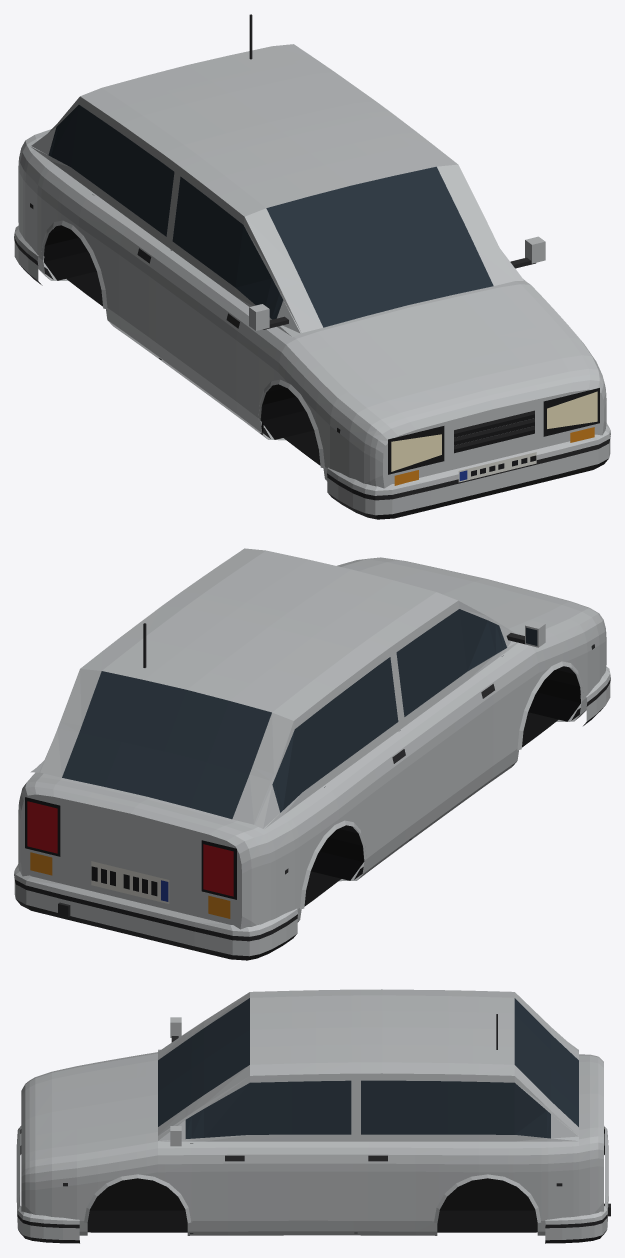
Rendered from seat-leon.glb.
3 renders of one model, top to bottom at view 1: azimuth 30°, elevation 25°; view 2: azimuth 150°, elevation 25°; view 3: azimuth 270°, elevation 25°, orthographic. The views are drawn at different scales.
Visible parts, largest first — view 1: LOD0, door_FR, door_RR; view 2: LOD0, door_FR, door_RR; view 3: LOD0, door_FL, door_RL.
Boxes of the visible parts, <box> form: LOD0: <box>14,14,610,519</box>; door_FR: <box>158,168,280,431</box>; door_RR: <box>78,111,175,355</box>; LOD0: <box>14,548,610,960</box>; door_FR: <box>395,600,516,836</box>; door_RR: <box>316,648,412,873</box>; LOD0: <box>16,989,610,1243</box>; door_FL: <box>191,1073,354,1231</box>; door_RL: <box>357,1073,478,1231</box>.
Size of what is drawn, in the model's own units: 1.93 by 1.59 by 4.28.
